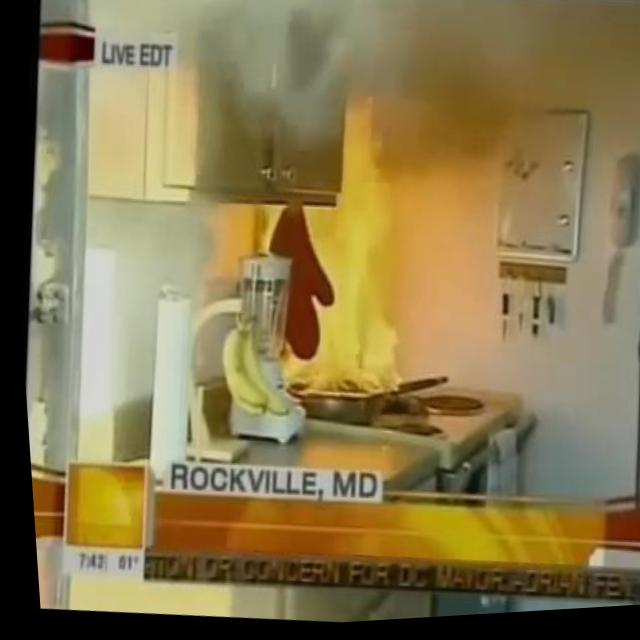fire: (220, 88, 432, 410)
